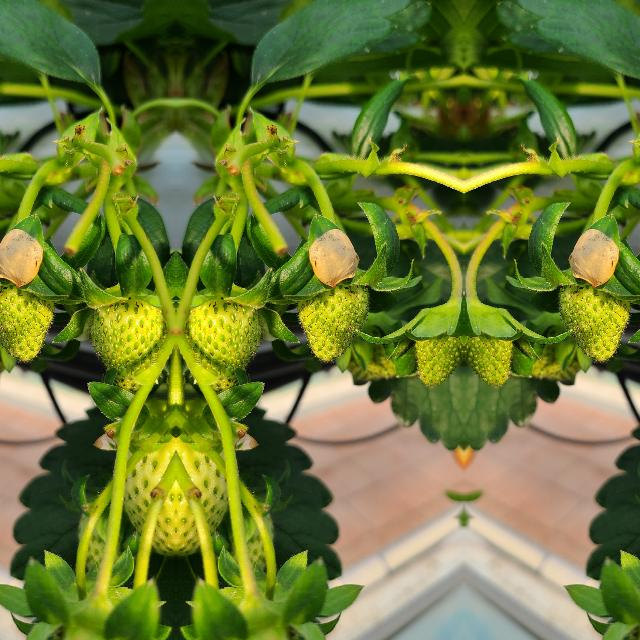Health_25: (174, 438, 236, 562), (114, 438, 176, 562), (184, 294, 260, 382), (90, 294, 166, 382), (296, 286, 368, 360), (558, 286, 630, 360), (0, 285, 53, 360), (412, 320, 462, 390), (464, 320, 514, 390)
